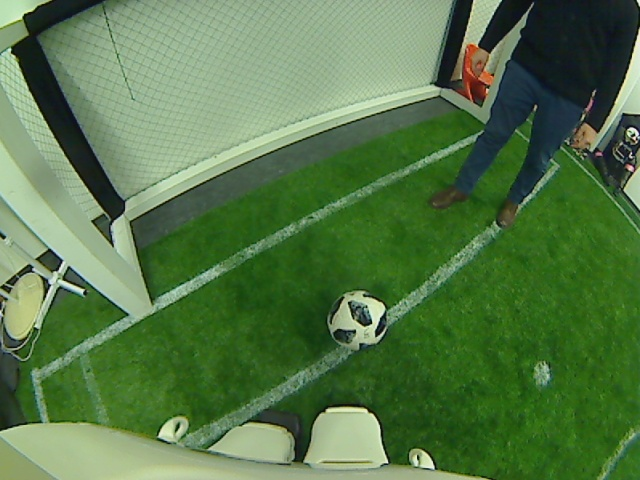ball: (324, 289, 390, 353)
